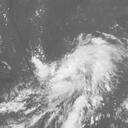cyclone: (30, 34, 112, 104)
